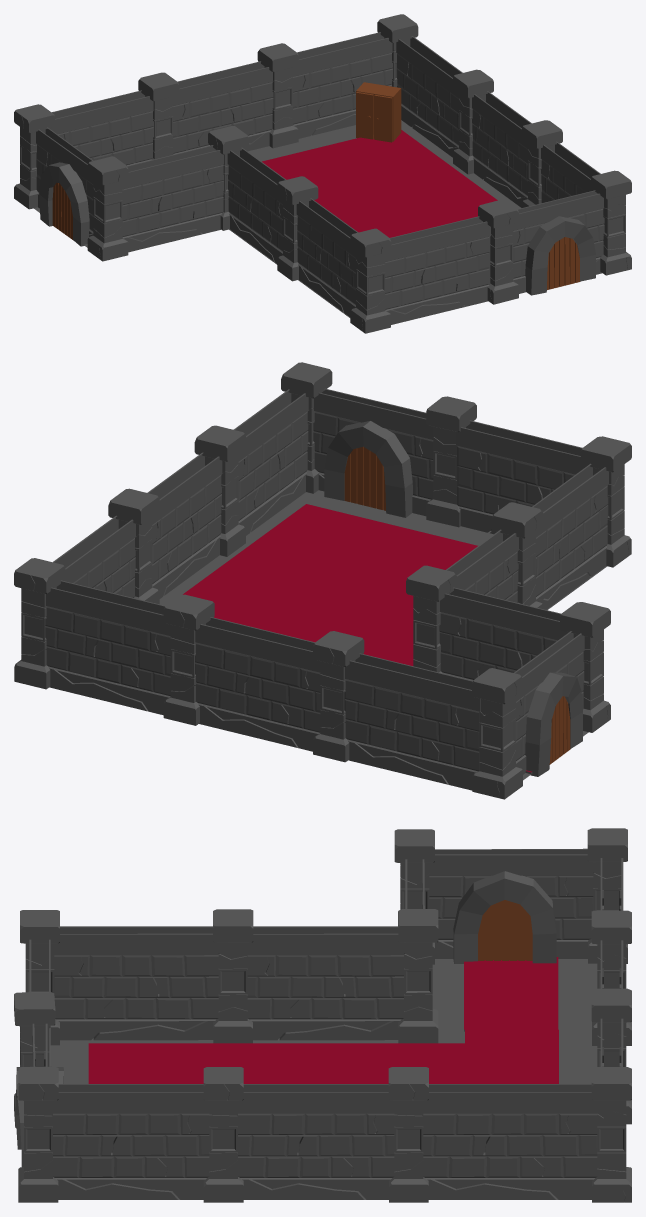
Rendered from room2.fbx.
The picture shows the model from 3 angles, top to bottom: view 1: azimuth 30°, elevation 25°; view 2: azimuth 150°, elevation 25°; view 3: azimuth 270°, elevation 25°; orthographic projection. The views are drawn at different scales.
Visible parts, largest first — view 1: wall.010, Plane.001, wall.009, wall.006, wall.007, wall.011, gate--NORMALS-OK.004, pillar.010, pillar.011, gate--NORMALS-OK.003, pillar.006, pillar.013 (+4 smaller); view 2: wall.010, Plane.001, wall.009, gate--NORMALS-OK.004, pillar.011, wall.006, wall.007, pillar.010, wall.011, gate--NORMALS-OK.003, pillar.006, pillar.012 (+3 smaller); view 3: wall.009, wall.006, Plane.001, gate--NORMALS-OK.003, pillar.010, pillar.011, pillar.006, pillar.008, pillar.012, pillar.013, pillar.009, wall.010 (+1 smaller).
Boxes of the visible parts, <box> form: wall.010: <box>49,32,393,165</box>; Plane.001: <box>34,120,521,317</box>; wall.009: <box>396,36,600,207</box>; wall.006: <box>227,147,358,317</box>; wall.007: <box>385,216,490,324</box>; wall.011: <box>122,145,225,252</box>; gate--NORMALS-OK.004: <box>513,190,604,295</box>; pillar.010: <box>453,69,631,275</box>; pillar.011: <box>138,14,418,159</box>; gate--NORMALS-OK.003: <box>36,127,93,246</box>; pillar.006: <box>208,126,318,281</box>; pillar.013: <box>87,156,128,261</box>; wall.010: <box>44,580,480,790</box>; Plane.001: <box>159,490,606,780</box>; wall.009: <box>53,389,308,598</box>; gate--NORMALS-OK.004: <box>313,388,433,517</box>; pillar.011: <box>14,558,364,762</box>; wall.006: <box>446,463,608,610</box>; wall.007: <box>456,420,586,534</box>; pillar.010: <box>108,362,332,604</box>; wall.011: <box>439,587,567,680</box>; gate--NORMALS-OK.003: <box>514,631,584,776</box>; pillar.006: <box>406,502,543,673</box>; pillar.012: <box>472,668,523,799</box>; wall.009: <box>52,1084,597,1199</box>; wall.006: <box>54,926,403,1040</box>; Plane.001: <box>50,957,597,1083</box>; gate--NORMALS-OK.003: <box>429,848,593,963</box>; pillar.010: <box>18,1067,428,1202</box>; pillar.011: <box>591,910,631,1202</box>; pillar.006: <box>213,909,438,1043</box>; pillar.008: <box>20,910,59,1045</box>; pillar.012: <box>587,828,627,963</box>; pillar.013: <box>394,829,434,964</box>; pillar.009: <box>14,992,55,1127</box>; wall.010: <box>600,858,623,1066</box>.
Bounding box in the file's own units: 1599 × 364 × 1625.
